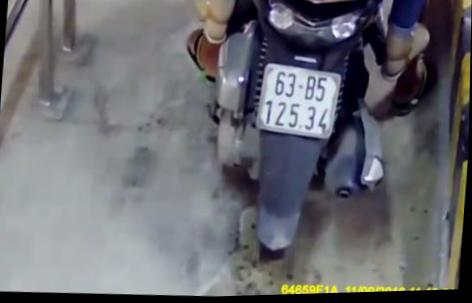LP: (255, 59, 343, 146)
